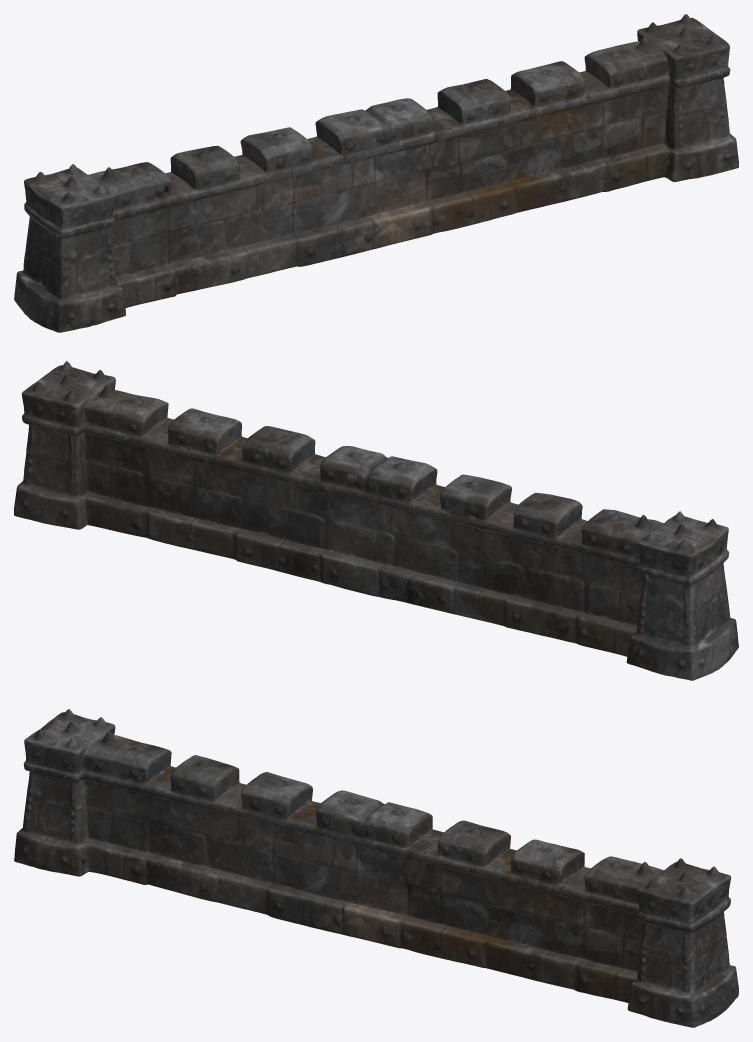
Rendered from siege_wall_iron.glb.
3 renders of one model, top to bottom at view 1: azimuth 30°, elevation 25°; view 2: azimuth 150°, elevation 25°; view 3: azimuth 330°, elevation 25°, orthographic.
Parts seen in each view (by area): view 1: geometry_0; view 2: geometry_0; view 3: geometry_0.
Part boxes in pixels (x1,y1,x2,y2): geometry_0: [14, 14, 738, 332]; geometry_0: [14, 361, 738, 680]; geometry_0: [14, 709, 738, 1027].
Size of the model in its own units: 1 by 0.1874 by 0.1228.
Materials: 1 (1 with a texture image).
